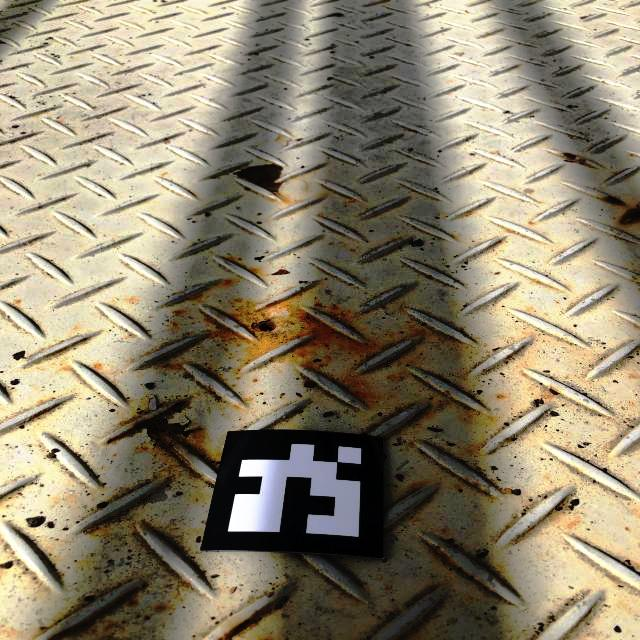Corrosion: (201, 291, 374, 374), (44, 579, 150, 640), (107, 400, 203, 465), (232, 163, 290, 203), (214, 614, 266, 640), (556, 152, 593, 167), (344, 379, 370, 400), (620, 204, 640, 225), (431, 544, 451, 560), (601, 195, 624, 206), (162, 363, 184, 370), (207, 384, 215, 390), (528, 221, 535, 225), (507, 230, 513, 233)
